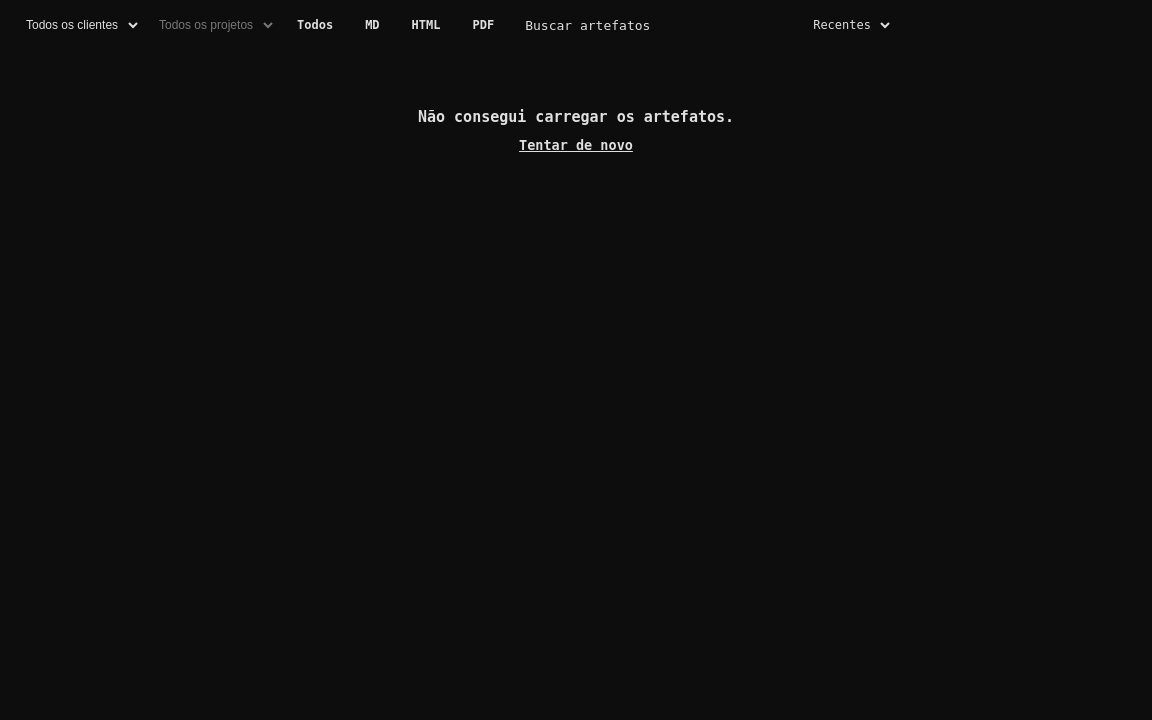
Test: ArtefatosV2 › carregando mostra 6 esqueletos; erro mostra "Tentar de novo"
Expected: the text "Não consegui carregar os artefatos." is shown, [418,108,734,126]
Click the button "Tentar de novo". click: (576, 146)
box: [519,135,633,156]
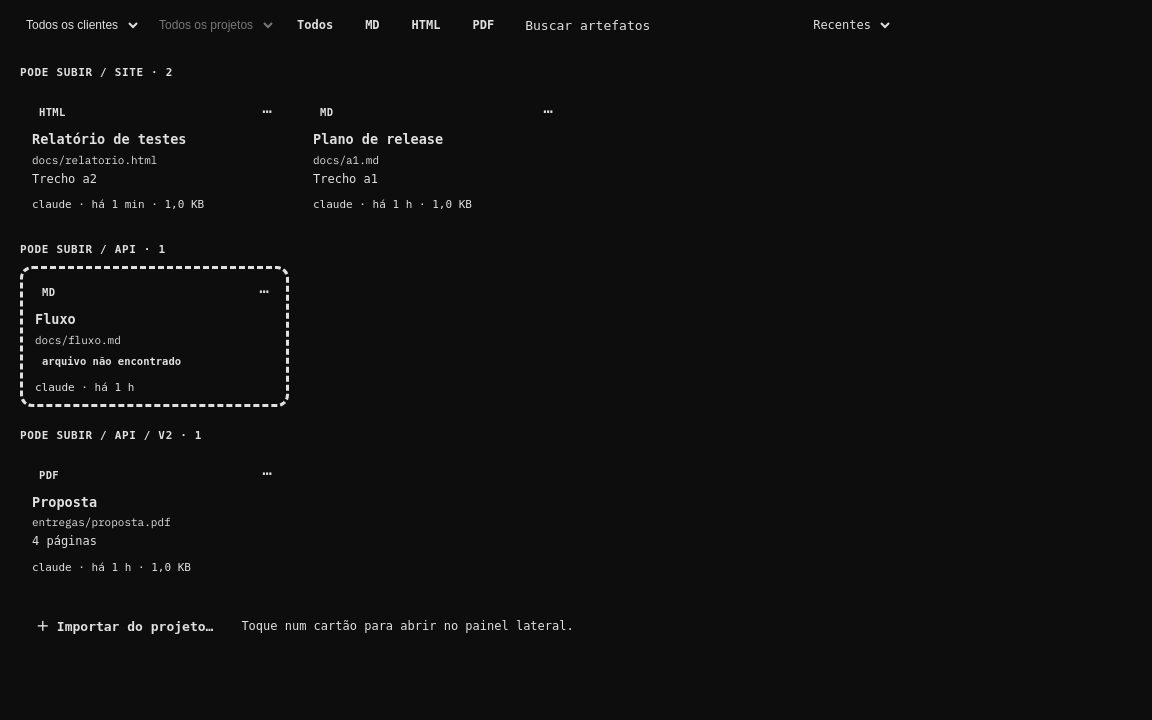
Expected: the button with test id "artifact-card-a1" is shown, [301,89,570,221]
